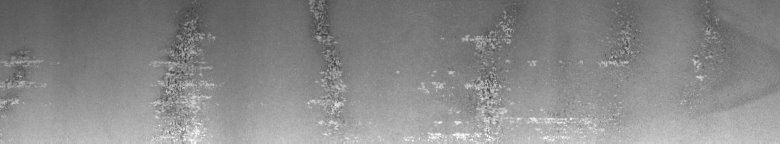hc: (151, 8, 224, 136)
